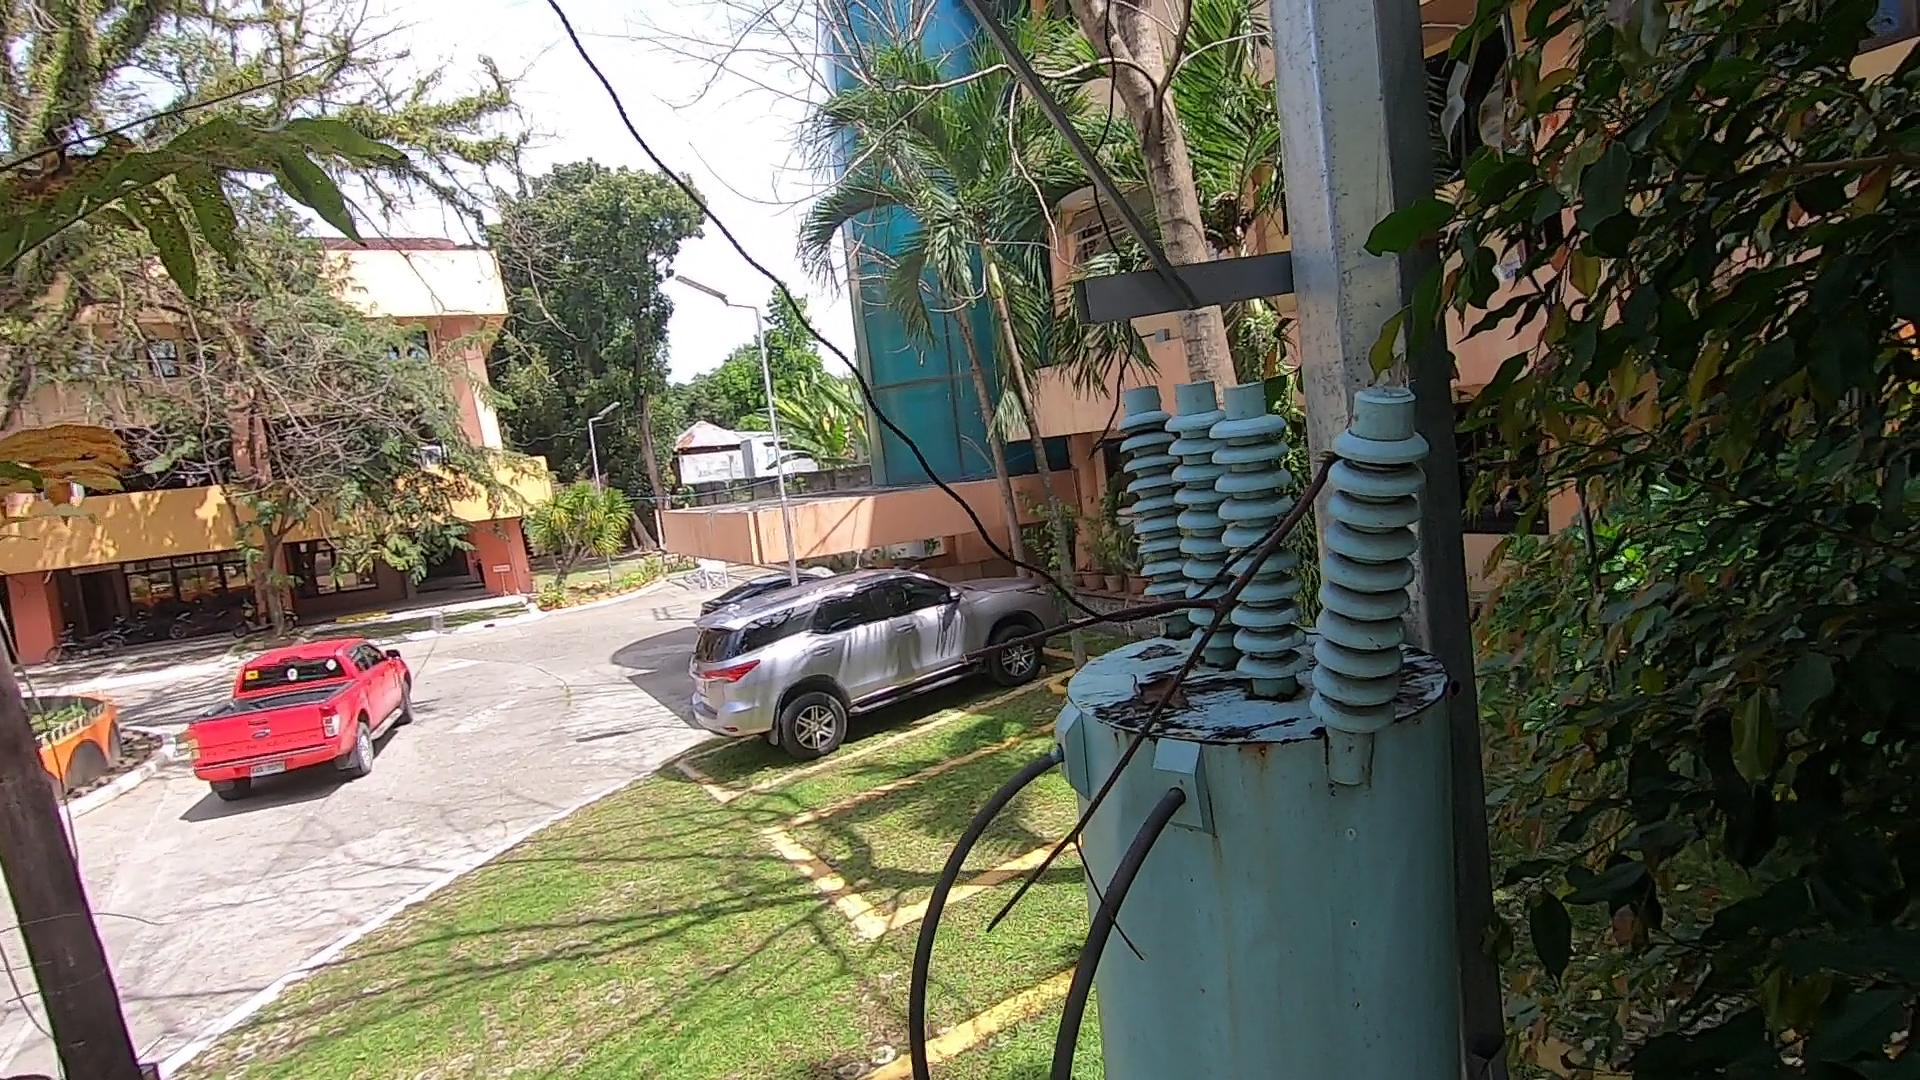leaf: (1124, 659, 1203, 716)
tree branch: (919, 454, 1429, 986)
